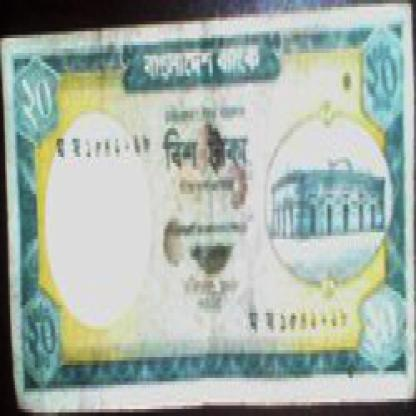Twenty: (155, 128, 266, 177), (19, 305, 92, 378), (3, 62, 70, 139), (361, 28, 409, 121), (358, 302, 411, 371)
